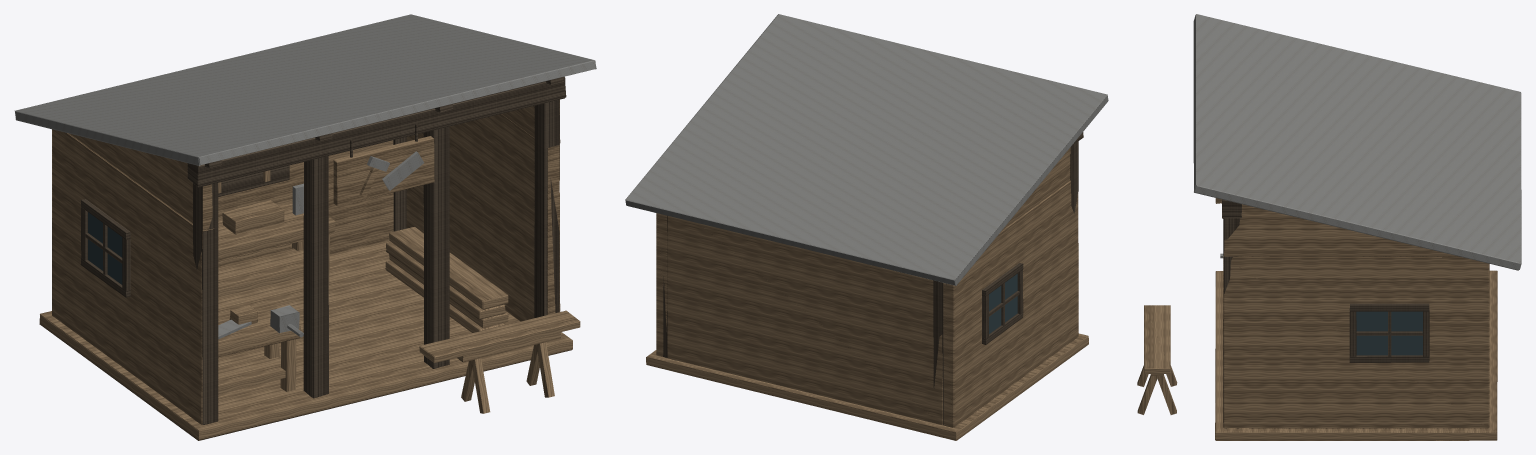
File: workshop.glb
The picture shows the model from 3 angles, left to right: view 1: azimuth 30°, elevation 25°; view 2: azimuth 150°, elevation 25°; view 3: azimuth 270°, elevation 25°; orthographic projection. The views are drawn at different scales.
Visible parts, largest first — view 1: Workshop; view 2: Workshop; view 3: Workshop.
Part boxes in pixels (box(x1,y1,x2,y2)): Workshop: box(14, 14, 596, 440); Workshop: box(625, 14, 1108, 440); Workshop: box(1137, 14, 1521, 440).
Size of the model in its own units: 6.84 by 4.88 by 6.48.
Materials: 4 (3 with a texture image).
